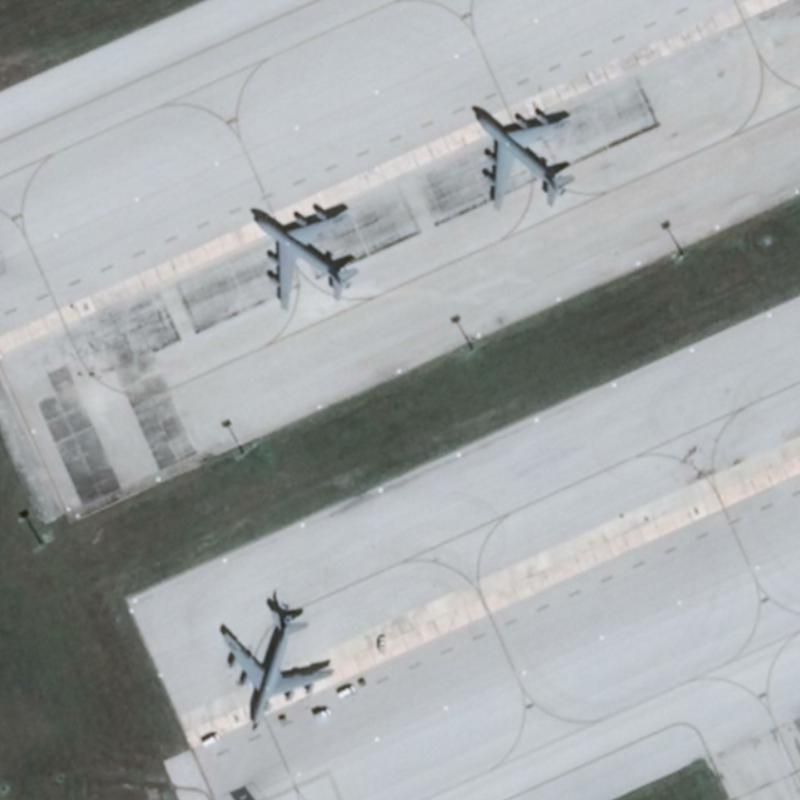A14: (216, 595, 336, 732), (240, 199, 366, 315), (467, 97, 584, 208)
